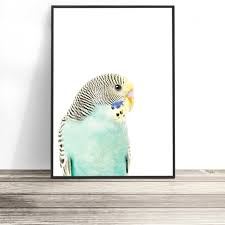budgie: (58, 72, 135, 177)
